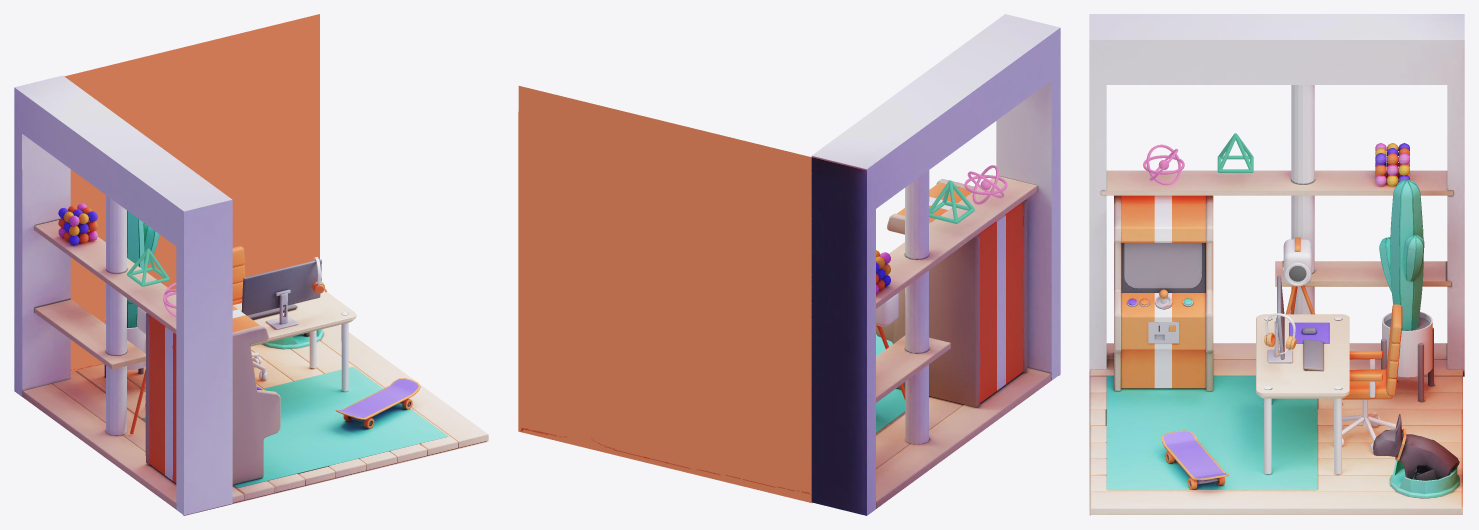
The model's file is level-react-draco.glb.
The picture shows the model from 3 angles, left to right: view 1: azimuth 30°, elevation 25°; view 2: azimuth 150°, elevation 25°; view 3: azimuth 270°, elevation 25°; orthographic projection. The views are drawn at different scales.
Parts seen in each view (by area): view 1: Level, Cactus, Pyramid; view 2: Level, Pyramid, React; view 3: Level, Cactus, Sudo, Camera.001, SudoHead, React, Pyramid.
Part boxes in pixels (x1=…): Level: x1=14, y1=14, x2=488, y2=515; Cactus: x1=127, y1=210, x2=158, y2=327; Pyramid: x1=126, y1=248, x2=169, y2=286; Level: x1=518, y1=14, x2=1060, y2=515; Pyramid: x1=929, y1=180, x2=974, y2=223; React: x1=964, y1=165, x2=1007, y2=204; Level: x1=1089, y1=14, x2=1464, y2=515; Cactus: x1=1379, y1=179, x2=1424, y2=330; Sudo: x1=1399, y1=434, x2=1459, y2=480; Camera.001: x1=1282, y1=237, x2=1311, y2=286; SudoHead: x1=1373, y1=414, x2=1406, y2=460; React: x1=1143, y1=144, x2=1184, y2=185; Pyramid: x1=1217, y1=133, x2=1253, y2=172.
Bounding box in the file's own units: 2 × 1.9 × 1.92.
Materials: 5 (2 with a texture image).
